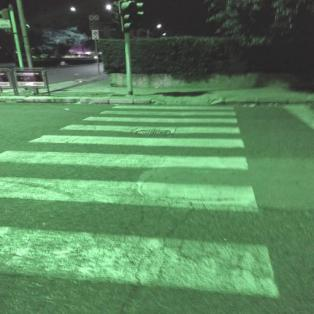Paso de Cebra: (0, 172, 284, 306), (26, 123, 251, 150)
